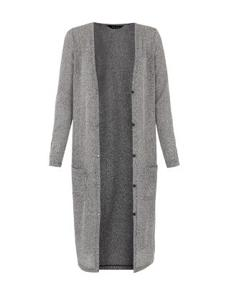C_cardigan sweater: (59, 28, 170, 275)
